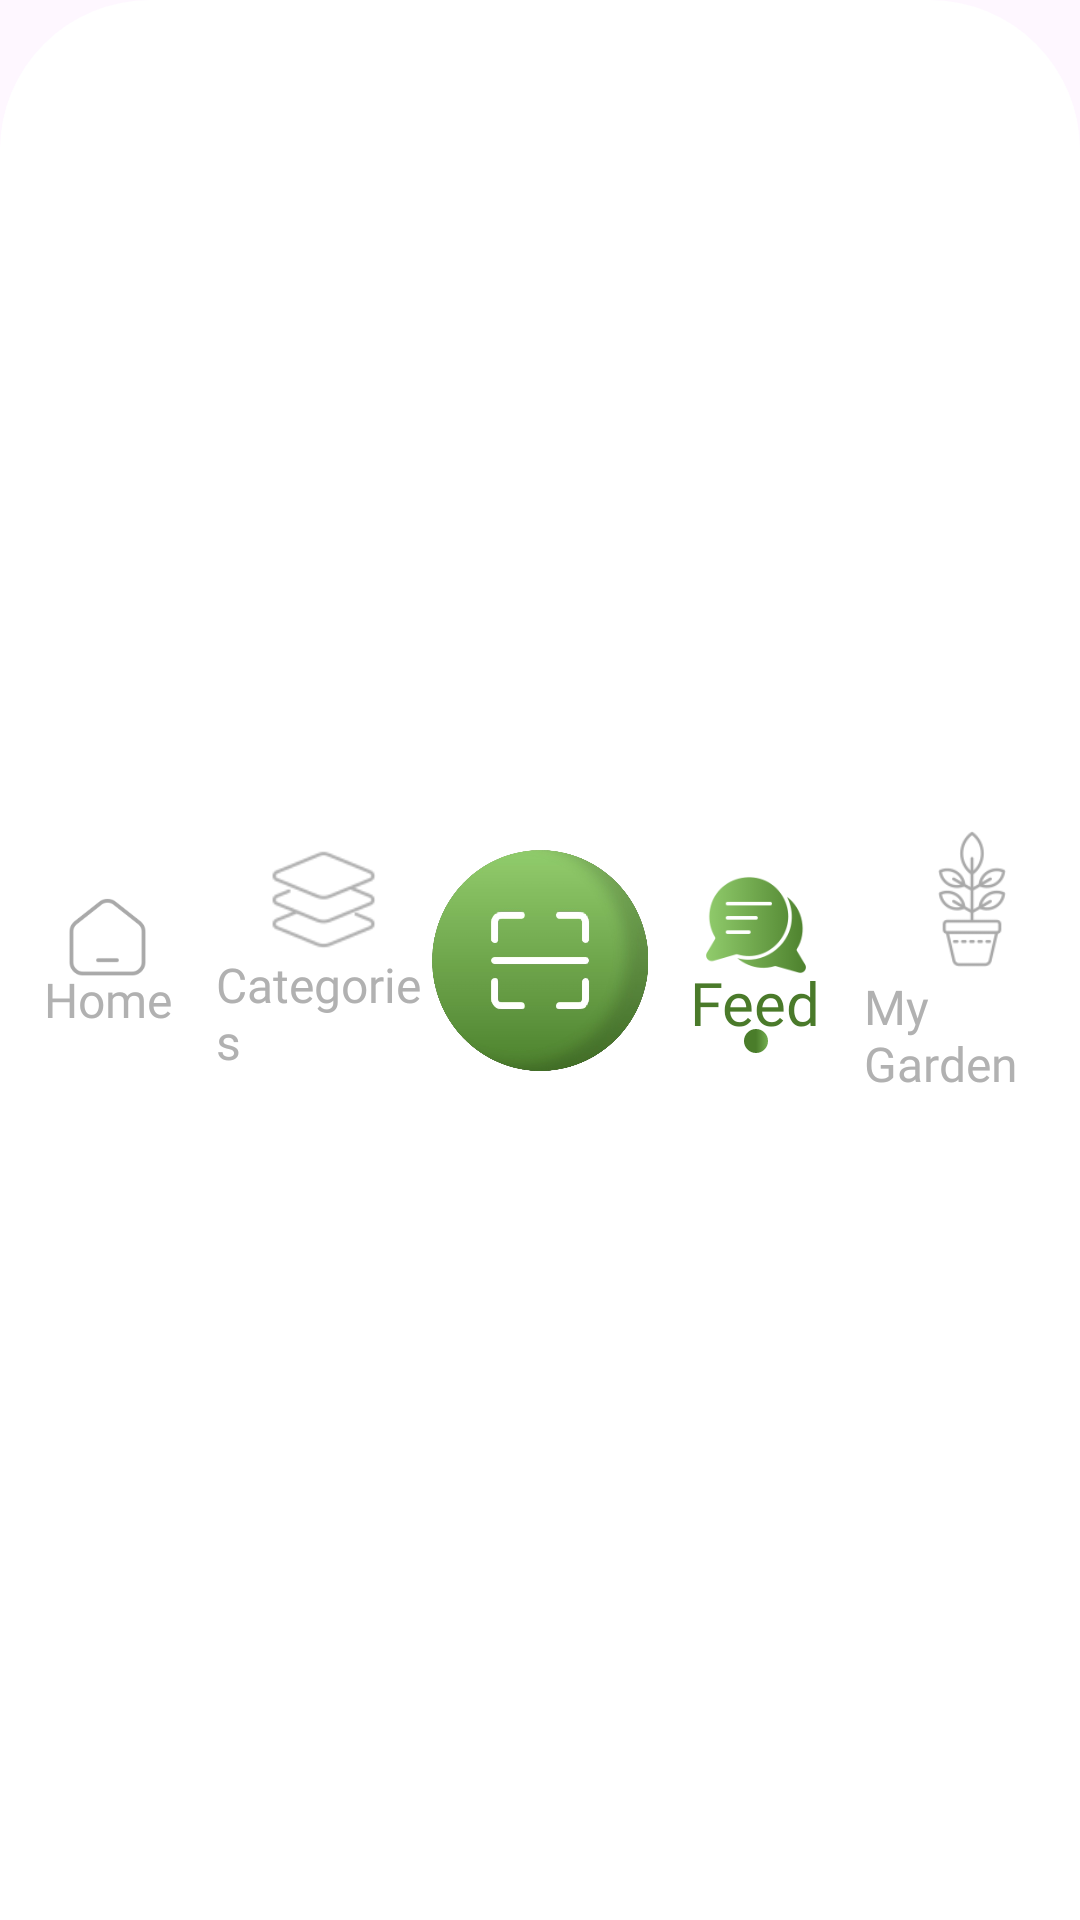

Icon bounding boxes for this 1080px×1920px phone screenshot, format (x1, y1, x2, y2):
circle: (744, 1029, 768, 1053)
in chat: (706, 877, 806, 973)
